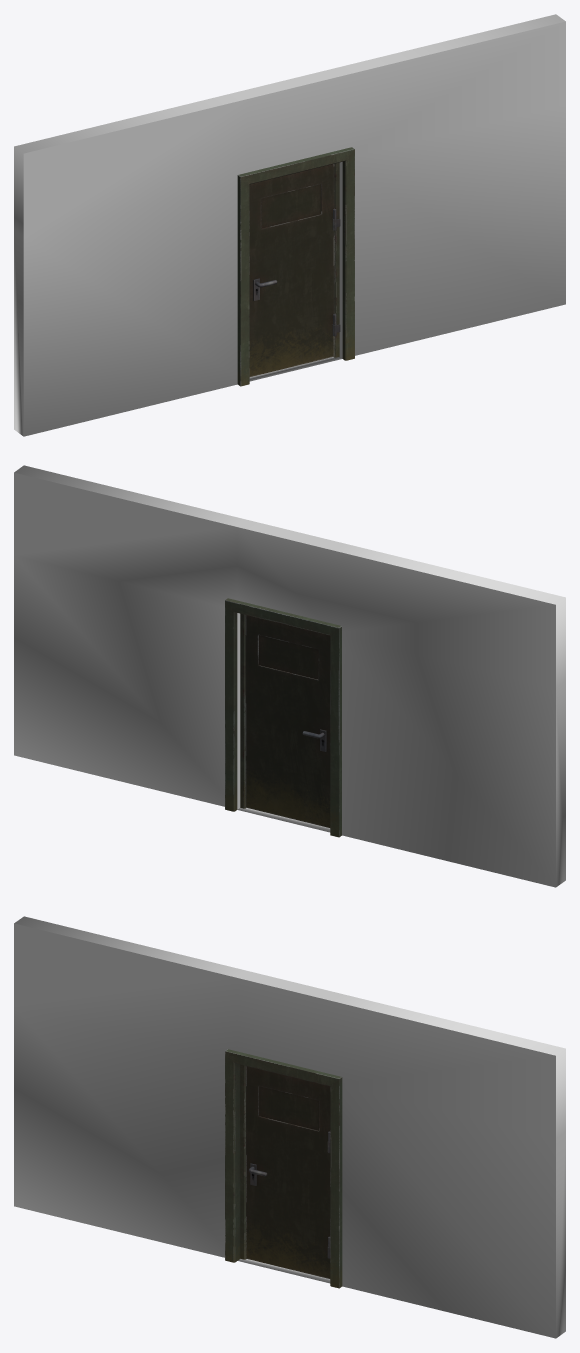
Rendered from wall-door.fbx.
The picture shows the model from 3 angles, top to bottom: view 1: azimuth 30°, elevation 25°; view 2: azimuth 150°, elevation 25°; view 3: azimuth 330°, elevation 25°; orthographic projection.
Visible parts, largest first — view 1: wall_door, door, frame; view 2: wall_door, door, frame; view 3: wall_door, door, frame.
Part boxes in pixels (x1,y1,x2,y2): wall_door: [14, 14, 565, 436]; door: [249, 164, 336, 376]; frame: [237, 147, 354, 386]; wall_door: [14, 465, 565, 887]; door: [245, 615, 330, 827]; frame: [225, 598, 341, 837]; wall_door: [14, 916, 565, 1338]; door: [246, 1066, 330, 1278]; frame: [225, 1049, 342, 1288].
Size of the model in its own units: 601 by 300 by 30.
